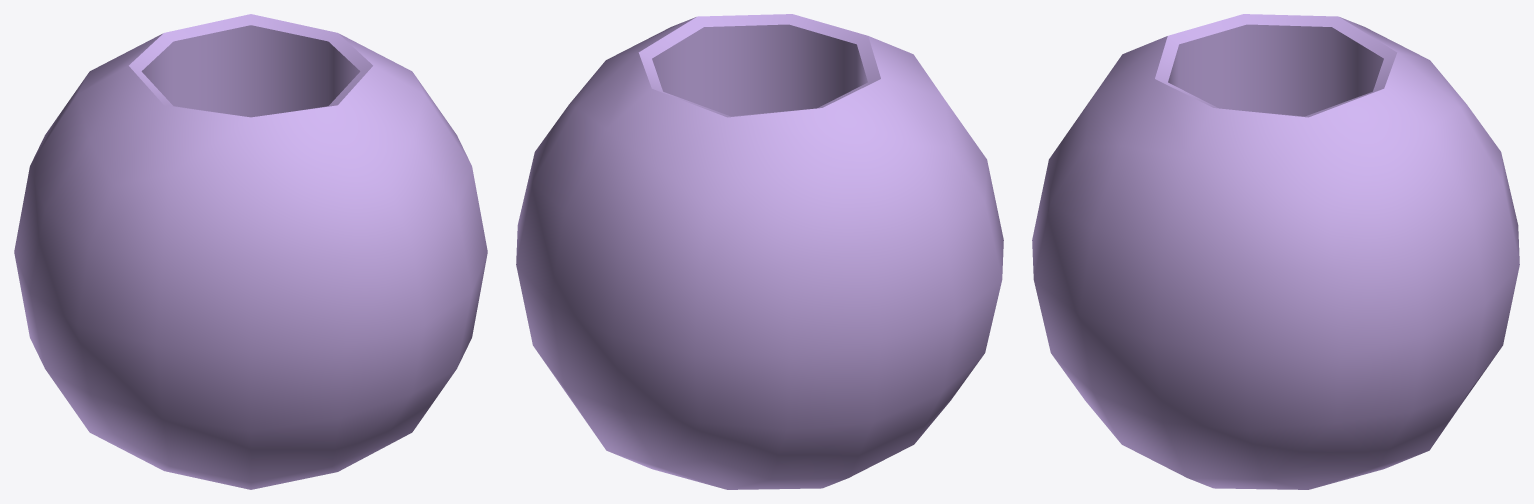
Rendered from Toy_Ball_5.glb.
3 views of the same model, side by side, from view 1: azimuth 30°, elevation 25°; view 2: azimuth 150°, elevation 25°; view 3: azimuth 270°, elevation 25° (orthographic). The views are drawn at different scales.
Visible parts, largest first — view 1: Toy_Ball_5; view 2: Toy_Ball_5; view 3: Toy_Ball_5.
Boxes of the visible parts, left/top/right/bottom form: Toy_Ball_5: left=14, top=14, right=487, bottom=489; Toy_Ball_5: left=516, top=14, right=1003, bottom=489; Toy_Ball_5: left=1032, top=14, right=1519, bottom=489.
Bounding box in the file's own units: 0.0595 × 0.0512 × 0.0595.
1 material, 1 textured.
